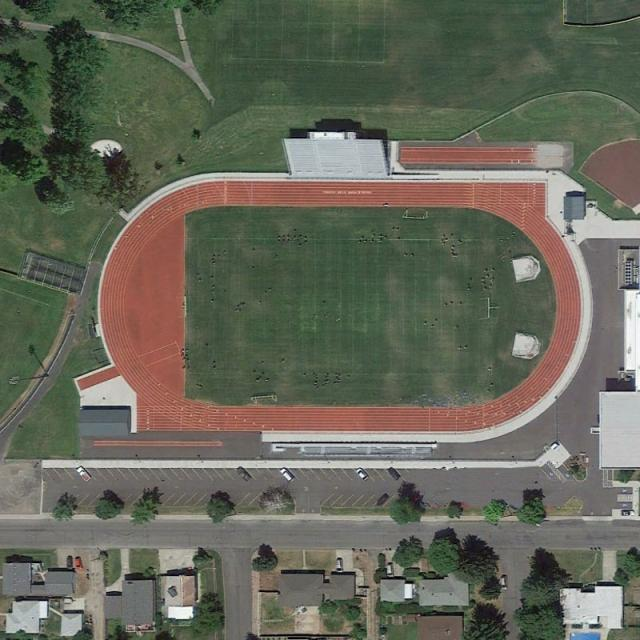vehicle: (279, 468, 295, 482), (77, 466, 91, 482), (387, 466, 401, 481), (620, 507, 635, 518), (237, 468, 250, 480), (356, 468, 369, 480), (378, 492, 389, 505), (335, 558, 343, 573), (386, 563, 393, 578), (75, 557, 82, 570), (502, 575, 507, 590), (66, 556, 72, 567)
